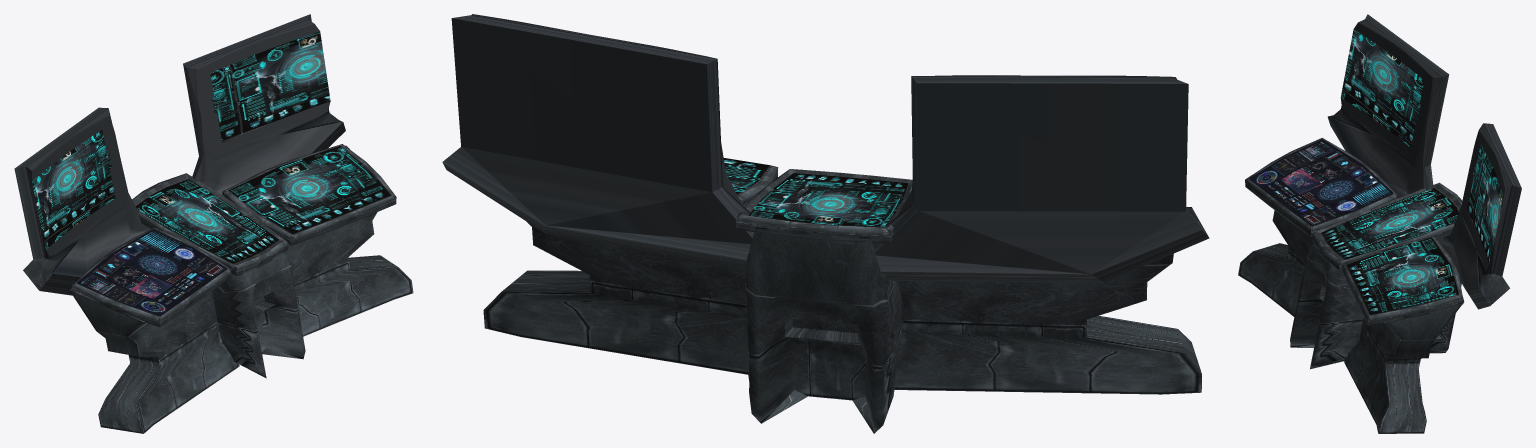
Rendered from obj_computer_desk.glb.
The picture shows the model from 3 angles, left to right: view 1: azimuth 30°, elevation 25°; view 2: azimuth 150°, elevation 25°; view 3: azimuth 270°, elevation 25°; orthographic projection. The views are drawn at different scales.
Parts seen in each view (by area): view 1: MaterialFBXASC032FBXASC0352142146907, MaterialFBXASC032FBXASC03511186, MaterialFBXASC032FBXASC0352142146802; view 2: MaterialFBXASC032FBXASC0352142146907, MaterialFBXASC032FBXASC03511186; view 3: MaterialFBXASC032FBXASC0352142146907, MaterialFBXASC032FBXASC03511186, MaterialFBXASC032FBXASC0352142146802.
Part boxes in pixels (x1=…): MaterialFBXASC032FBXASC0352142146907: x1=14, y1=14, x2=413, y2=433; MaterialFBXASC032FBXASC03511186: x1=32, y1=31, x2=391, y2=264; MaterialFBXASC032FBXASC0352142146802: x1=77, y1=229, x2=227, y2=316; MaterialFBXASC032FBXASC0352142146907: x1=442, y1=14, x2=1209, y2=433; MaterialFBXASC032FBXASC03511186: x1=723, y1=158, x2=908, y2=227; MaterialFBXASC032FBXASC0352142146907: x1=1238, y1=14, x2=1521, y2=433; MaterialFBXASC032FBXASC03511186: x1=1321, y1=29, x2=1503, y2=315; MaterialFBXASC032FBXASC0352142146802: x1=1249, y1=139, x2=1393, y2=226.
Size of the model in its own units: 14.36 by 8.18 by 8.82.
Materials: 3 (3 with a texture image).
